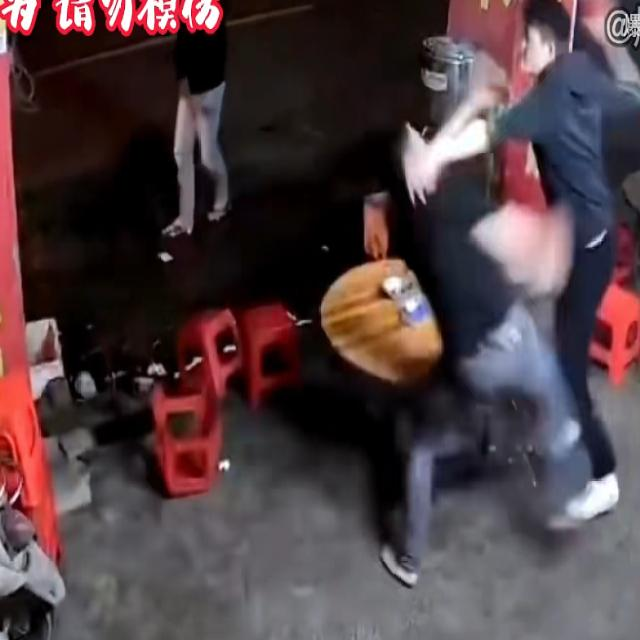fight: (377, 8, 623, 280)
